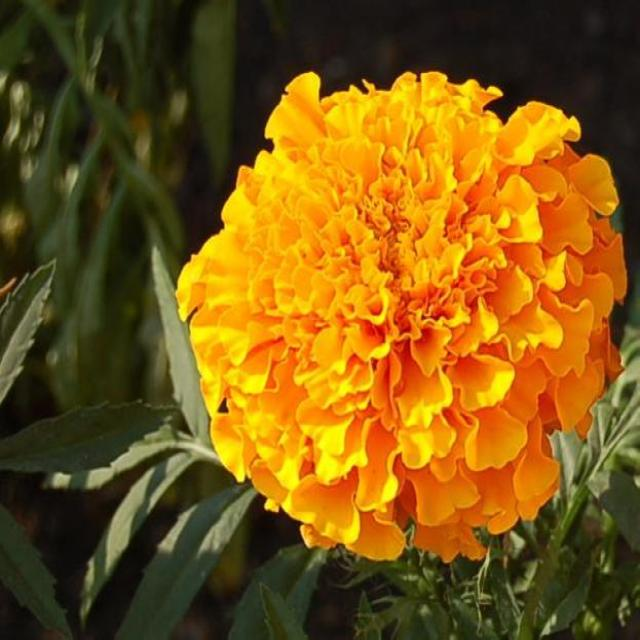marigold: (176, 46, 636, 639)
